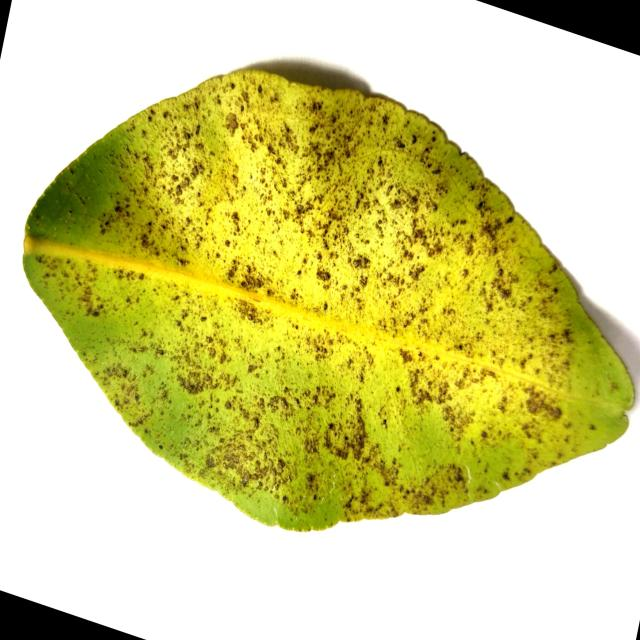melanose: (24, 70, 634, 530)
